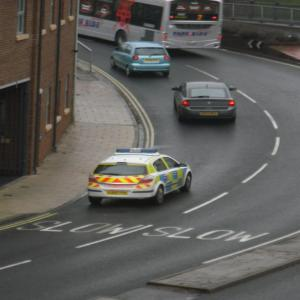Vehicle-registration-plate: (200, 112, 221, 118)
